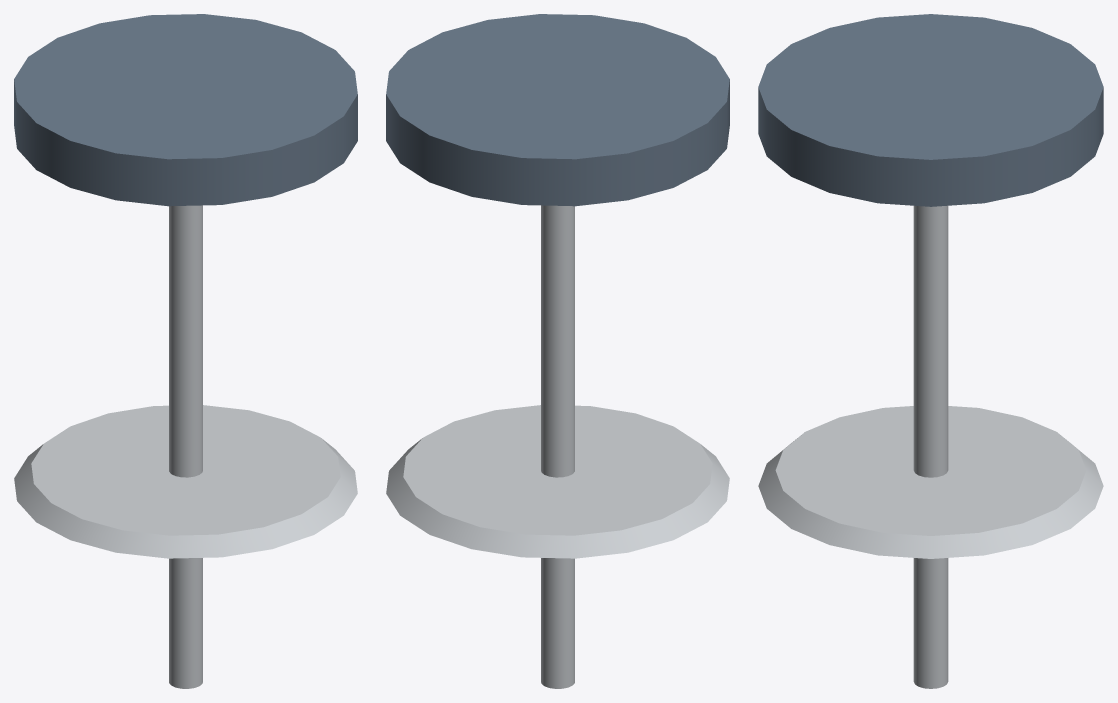
Rendered from barStool.glb.
The picture shows the model from 3 angles, left to right: view 1: azimuth 30°, elevation 25°; view 2: azimuth 150°, elevation 25°; view 3: azimuth 270°, elevation 25°; orthographic projection.
Visible parts, largest first — view 1: barStool; view 2: barStool; view 3: barStool.
Part boxes in pixels (left/top/right/bottom): barStool: left=14, top=14, right=357, bottom=688; barStool: left=386, top=14, right=729, bottom=688; barStool: left=758, top=14, right=1103, bottom=688.
Size of the model in its own units: 0.4 by 0.76 by 0.4.
